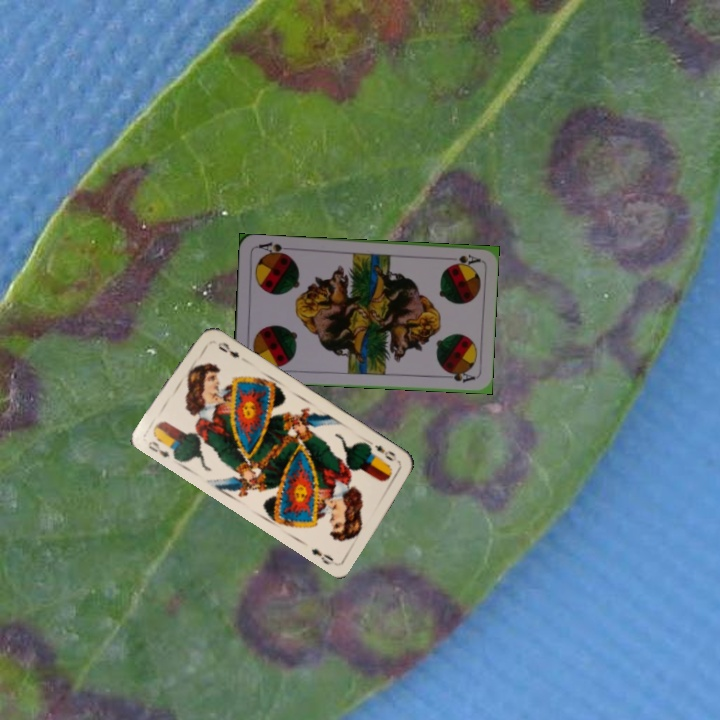EO: (370, 441, 398, 464), (144, 437, 172, 460)
SA: (449, 250, 482, 267)
